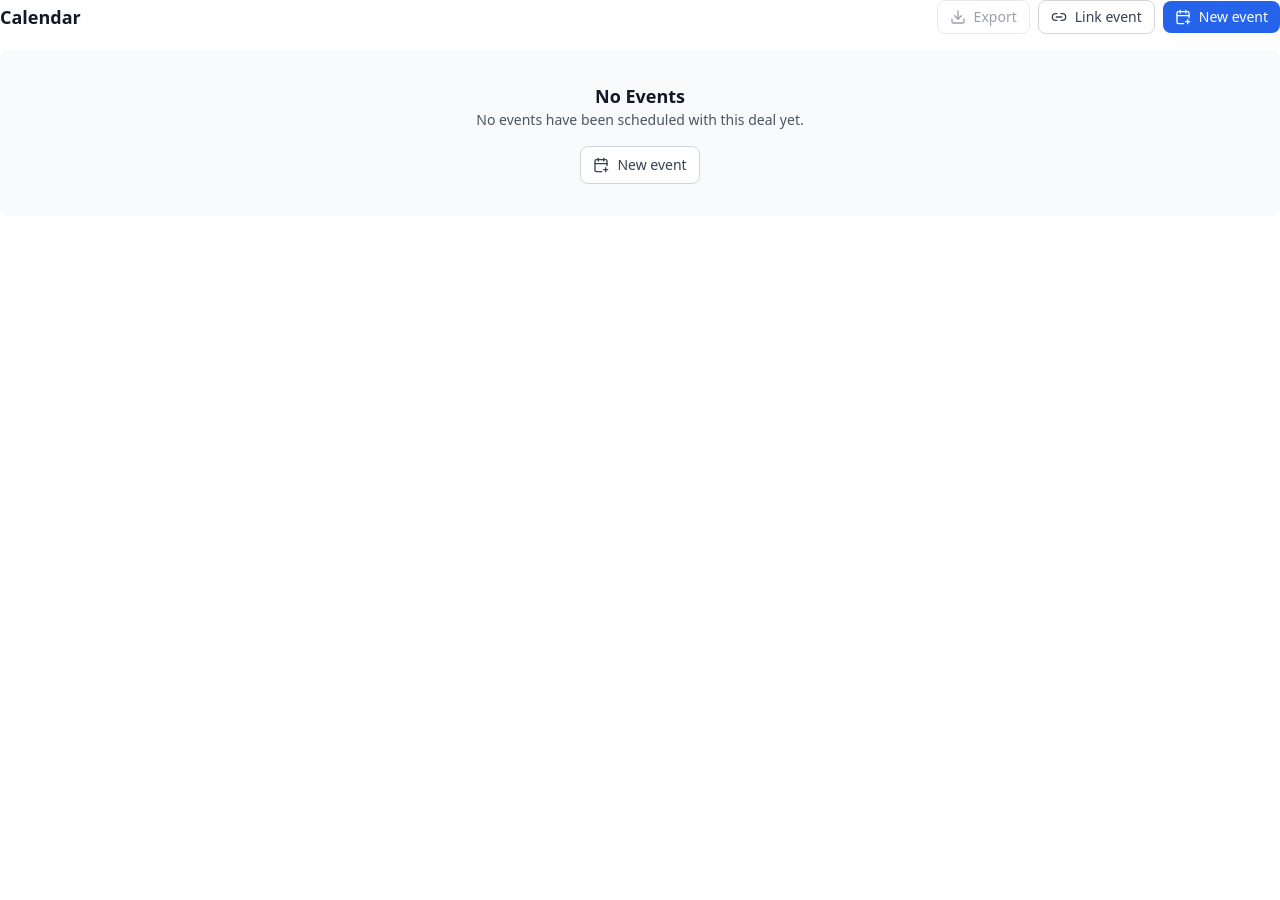
Test case: CalendarEventsCard › shows an empty list and errors in the Link event dialog
Check: the heading "No Events" is shown, box [595,84,685,108]
Click the button "Link event" at x=1096, y=17, box [1038,0,1155,34]
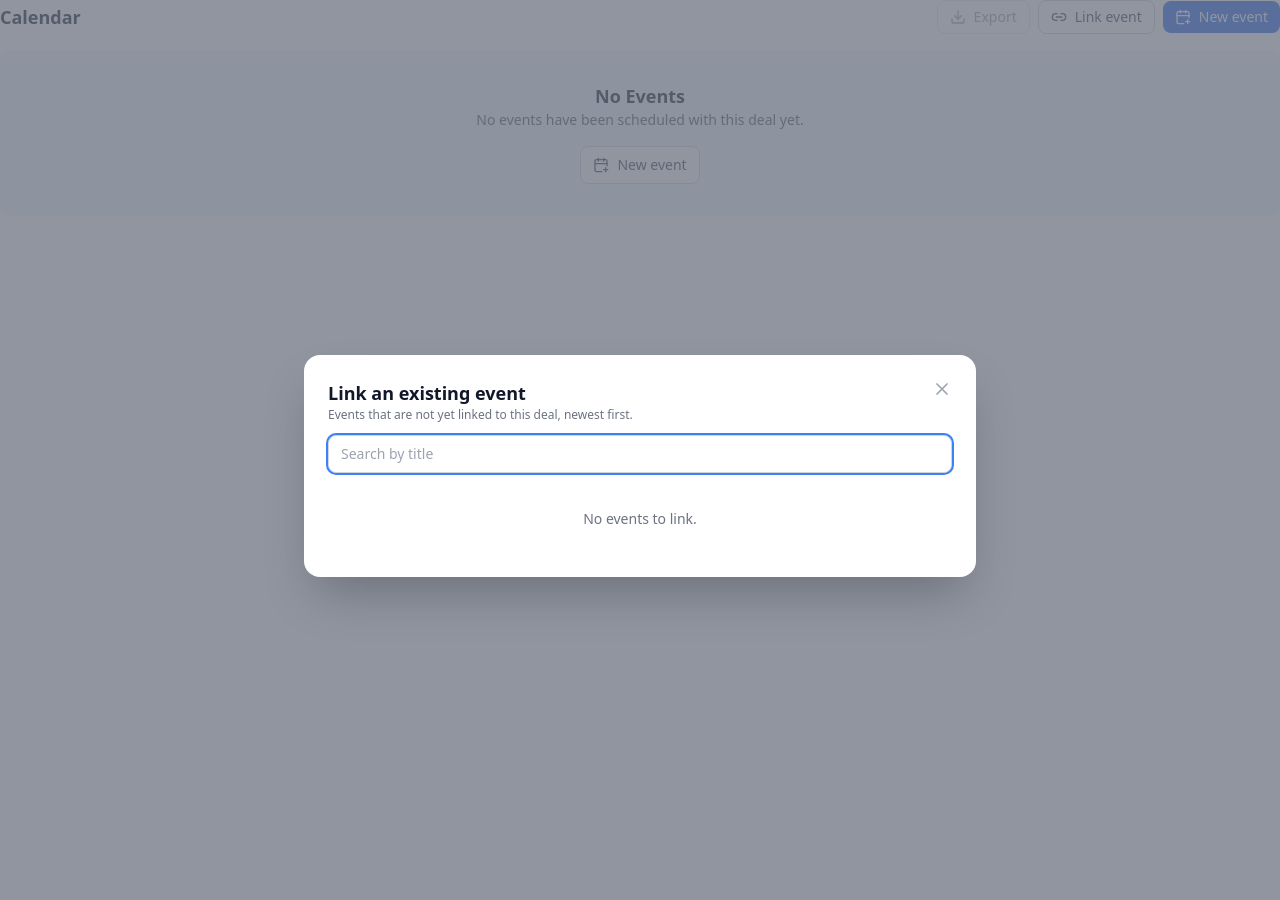
Check: the text "No events to link." is shown, box [583,509,697,528]
Type "x" into the search field named "Search events" at x=640, y=454, box [328,435,952,473]
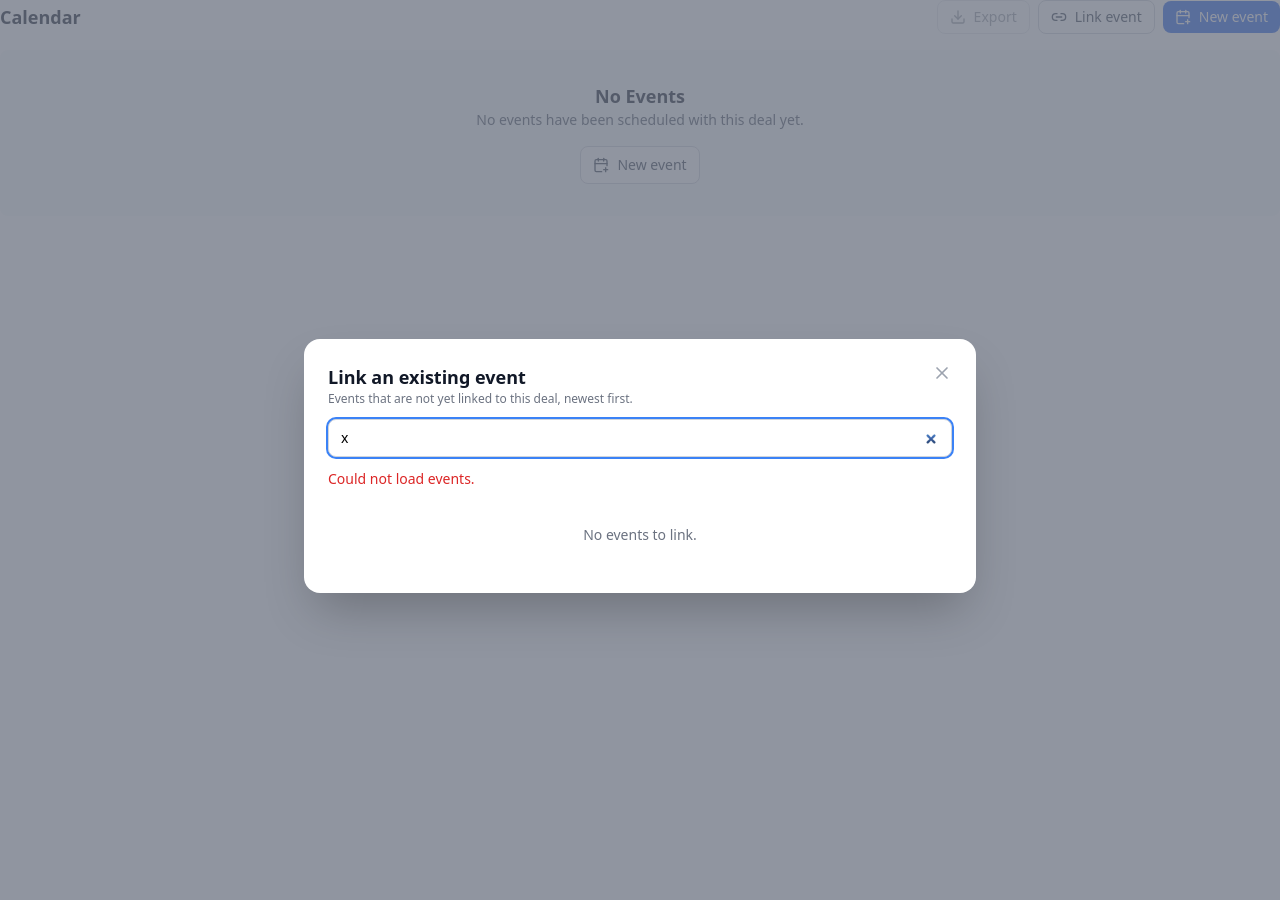
Check: the text "Could not load events." is shown, box [328,469,475,488]
